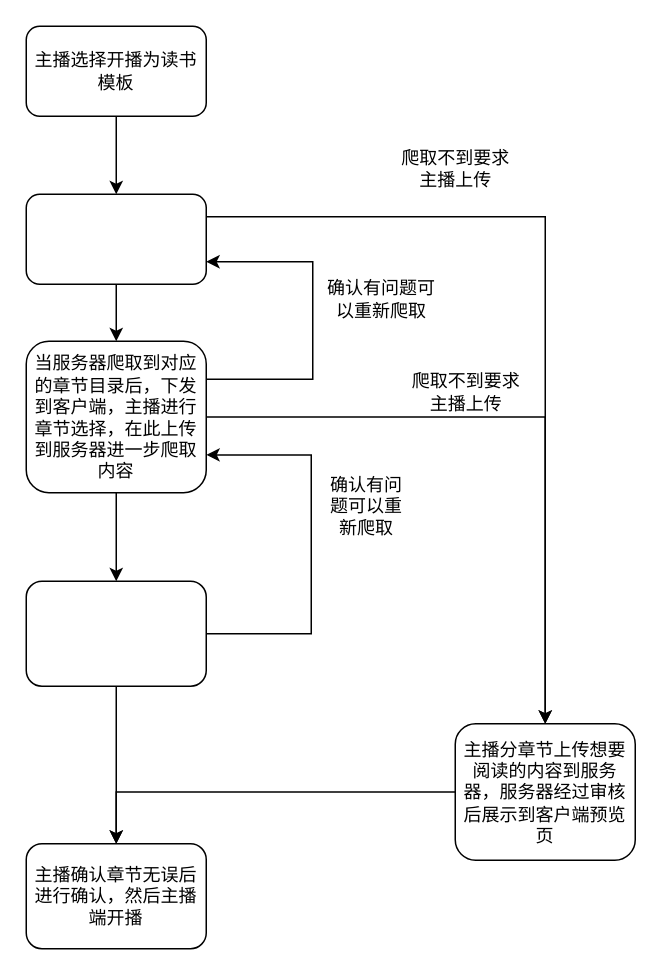
Image size: 662x975. Some labels were removed from this diagram. The centre of each missing label's shape, as x and y in pixels:
客户端填写书名，作者，并上传到服务器到大型的小说网站进行爬取: point 115,238
当服务器爬取到章节内容后，下发章节信息到主播端，主播进行可以进行预览: point 115,633
